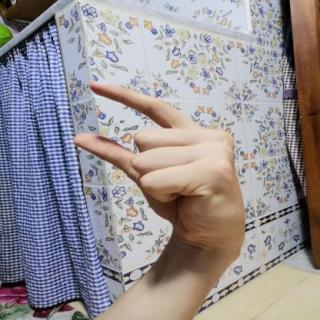DELL: (62, 76, 258, 259)
